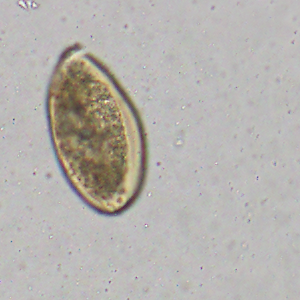Fasciola_hepatica_egg: (44, 40, 149, 218)
